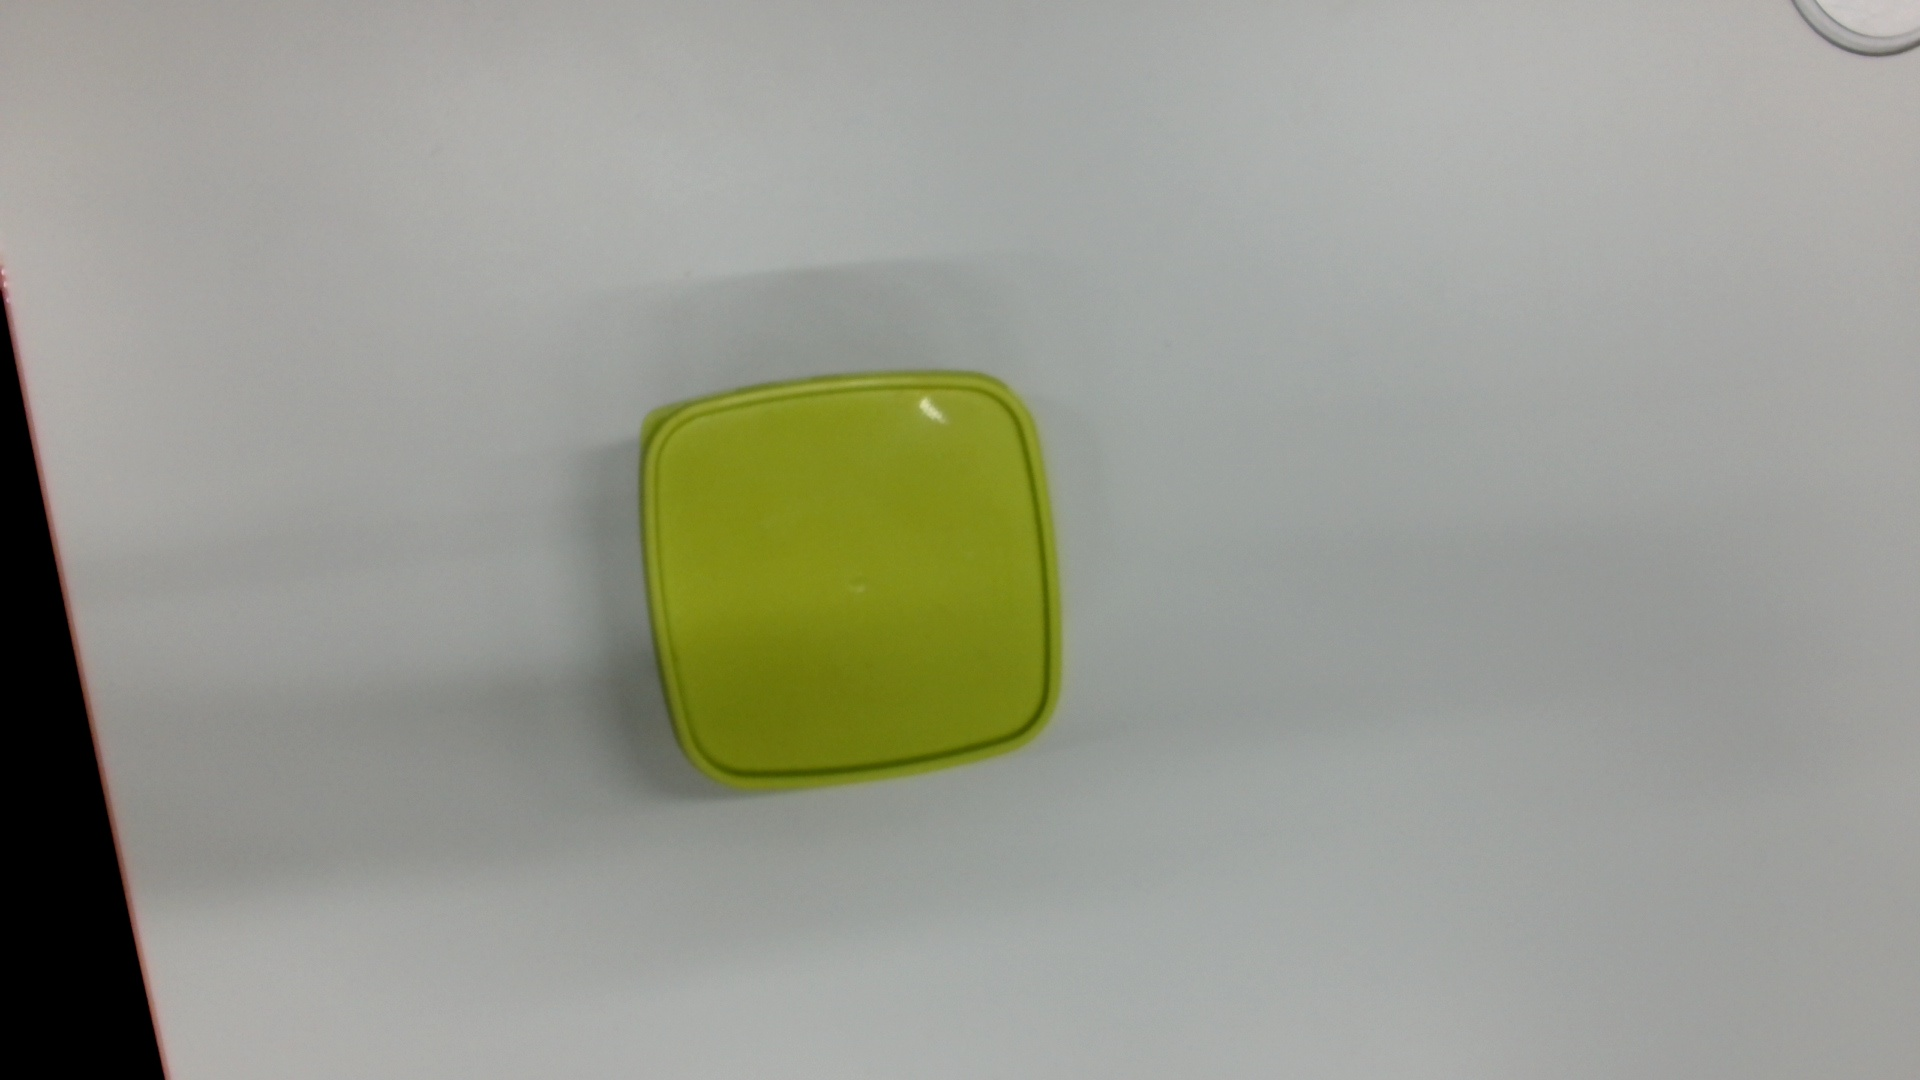Box: (632, 364, 1073, 799)
